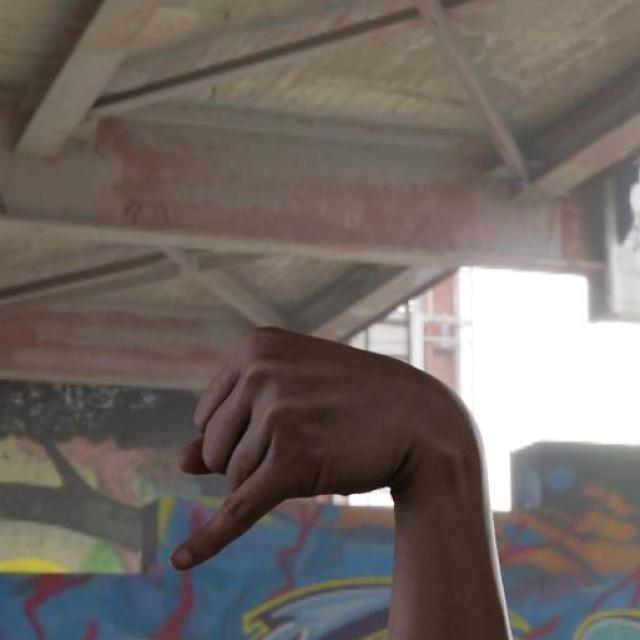J: (162, 321, 478, 579)
